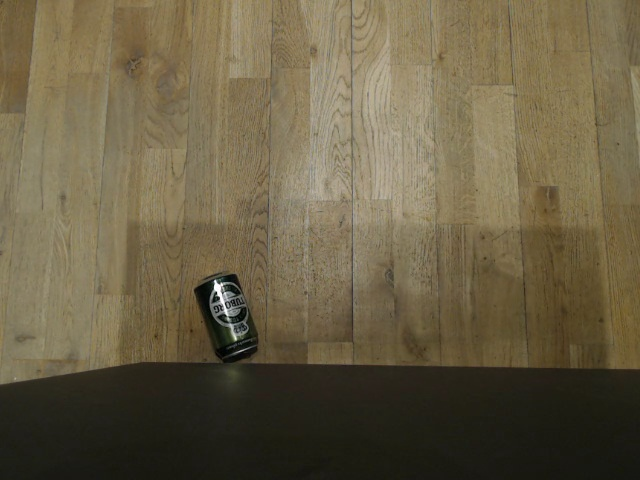beer: (193, 271, 260, 360)
